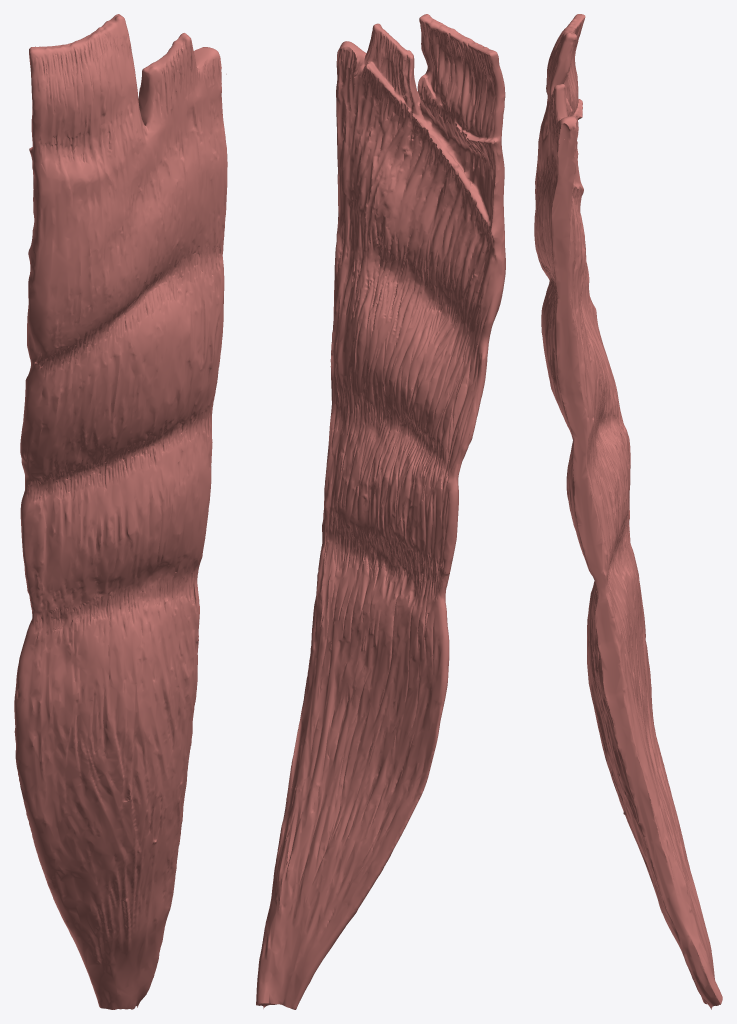
The model's file is fma13377.glb.
3 views of the same model, side by side, from view 1: azimuth 30°, elevation 25°; view 2: azimuth 150°, elevation 25°; view 3: azimuth 270°, elevation 25° (orthographic). The views are drawn at different scales.
Parts seen in each view (by area): view 1: FMA13377; view 2: FMA13377; view 3: FMA13377.
Part boxes in pixels (box(x1,y1,x2,y2)): FMA13377: box(14, 14, 227, 1009); FMA13377: box(256, 14, 505, 1009); FMA13377: box(534, 14, 722, 1009).
Size of the model in its own units: 0.0762 by 0.3958 by 0.0723.
